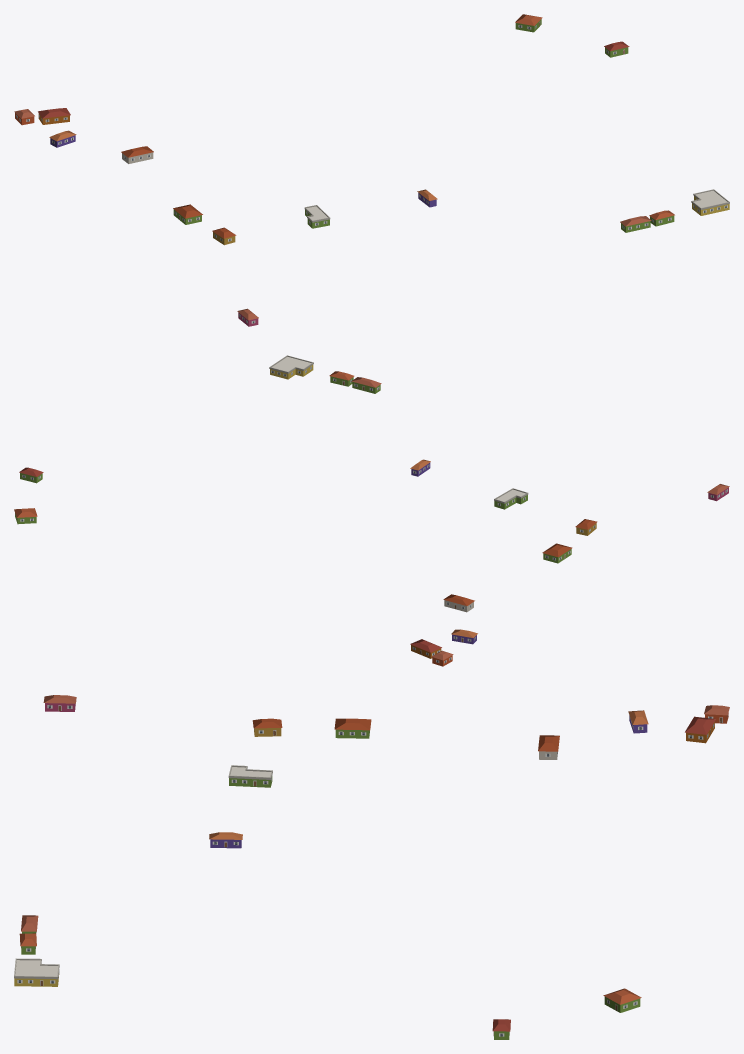
The model's file is msb_noord_m17_m9.glb.
The picture shows the model from 3 angles, top to bottom: view 1: azimuth 30°, elevation 25°; view 2: azimuth 150°, elevation 25°; view 3: azimuth 270°, elevation 25°; orthographic projection. The views are drawn at different scales.
Parts seen in each view (by area): view 1: msb_noord_m17_m9_lod0; view 2: msb_noord_m17_m9_lod0; view 3: msb_noord_m17_m9_lod0.
Part boxes in pixels (x1,y1,x2,y2): msb_noord_m17_m9_lod0: [14, 14, 729, 326]; msb_noord_m17_m9_lod0: [14, 355, 729, 666]; msb_noord_m17_m9_lod0: [14, 695, 729, 1039].
Size of what is drawn, in the model's own units: 294 by 11.7 by 255.
Materials: 3 (1 with a texture image).
